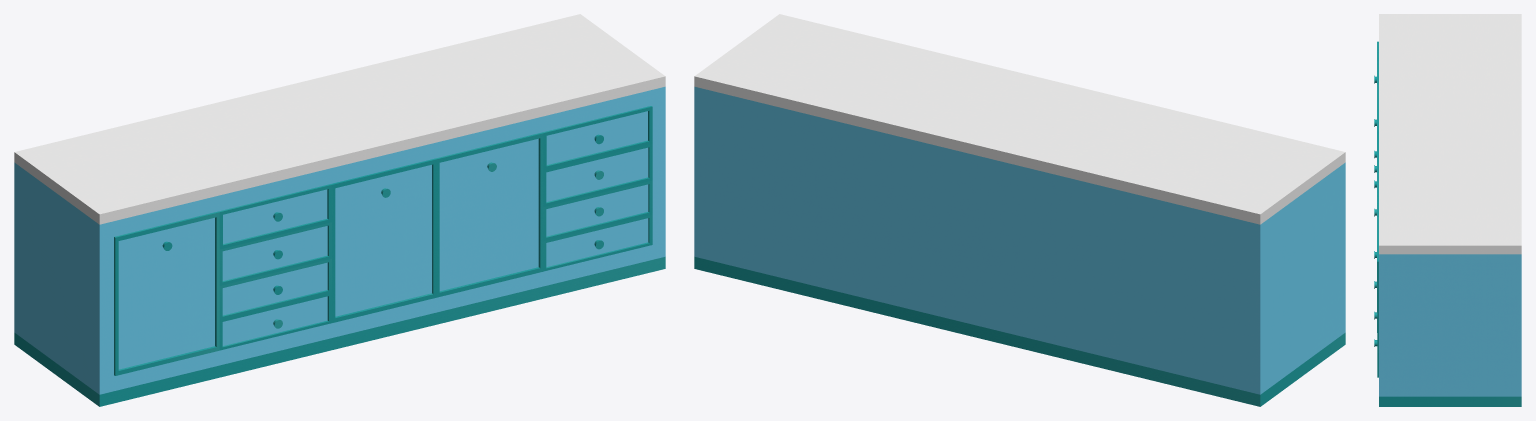
Rendered from MuebleCocina.obj.
The picture shows the model from 3 angles, left to right: view 1: azimuth 30°, elevation 25°; view 2: azimuth 150°, elevation 25°; view 3: azimuth 270°, elevation 25°; orthographic projection. The views are drawn at different scales.
Parts seen in each view (by area): view 1: Cube.020, Cube.037, Cube.035, Cube.036, Cube.038, Cube.024, Cube.025, Cube.040, Cube.015, Cube.043, Cube.041, Cube.042 (+1 smaller); view 2: Cube.020; view 3: Cube.020, Cylinder.001, Cube.024.
Part boxes in pixels (x1=…): Cube.020: x1=14, y1=14, x2=665, y2=406; Cube.037: x1=435, y1=132, x2=543, y2=297; Cube.035: x1=114, y1=211, x2=219, y2=375; Cube.036: x1=331, y1=158, x2=436, y2=322; Cube.038: x1=219, y1=184, x2=331, y2=249; Cube.024: x1=542, y1=106, x2=652, y2=170; Cube.025: x1=219, y1=222, x2=331, y2=285; Cube.040: x1=543, y1=144, x2=652, y2=206; Cube.015: x1=219, y1=259, x2=331, y2=319; Cube.043: x1=543, y1=180, x2=652, y2=241; Cube.041: x1=219, y1=293, x2=331, y2=350; Cube.042: x1=543, y1=214, x2=652, y2=271; Cube.020: x1=694, y1=14, x2=1345, y2=406; Cube.020: x1=1379, y1=14, x2=1521, y2=406; Cylinder.001: x1=1374, y1=75, x2=1377, y2=346; Cube.024: x1=1377, y1=217, x2=1378, y2=292.
Size of the model in its own units: 4.67 by 1.52 by 1.26.
Materials: 3 (3 with a texture image).
